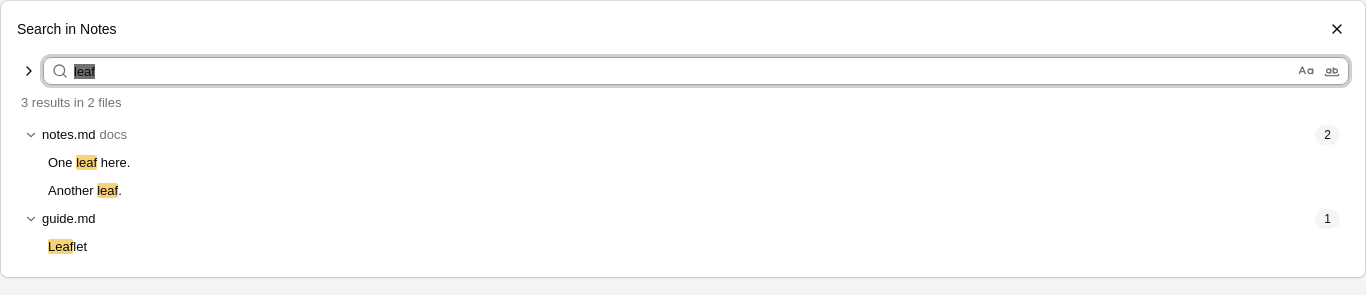
Test: folder search panel › groups matches under their folder-relative files with counts and highlighted text
Check: the list item "One leaf here." is shown, box [48,155,130,170]
Check: the text "leaf" next to "One" is shown, box [76,155,97,170]
Hover over the list item "notes.md docs 2" at (69, 134), box [17,121,1349,149]
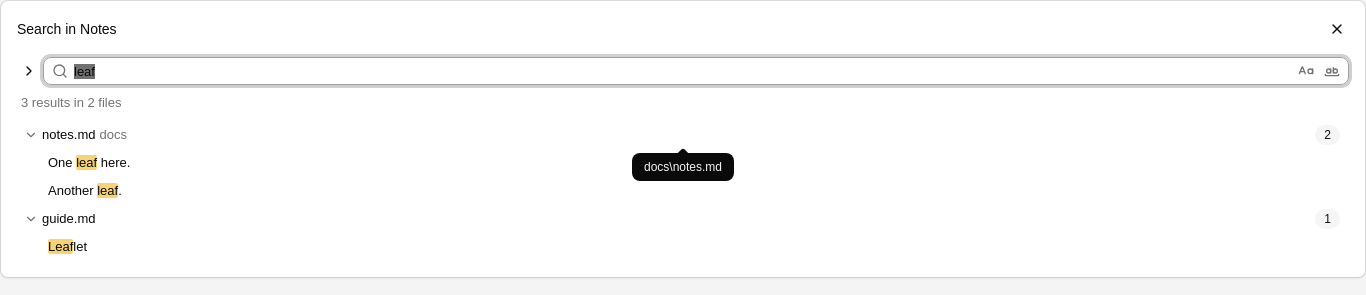
Check: the element showing "docs\\notes.md" reads "docs\\notes.md", box [644,160,722,174]
